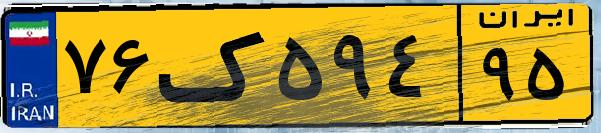4: (385, 28, 445, 110)
5: (270, 28, 330, 110), (525, 38, 570, 115)
6: (110, 28, 158, 98)
7: (57, 26, 110, 100)
9: (330, 28, 385, 110), (475, 38, 525, 113)
ک: (158, 12, 270, 120)
